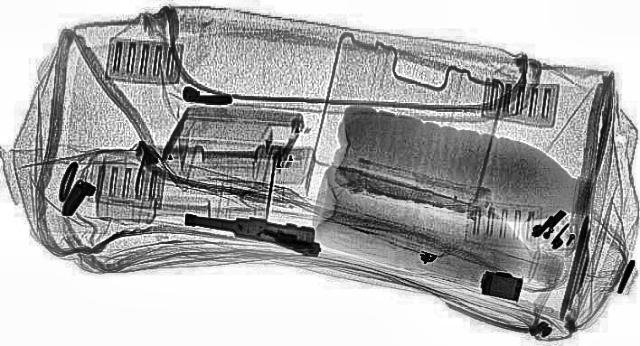Gun: (172, 201, 342, 257)
